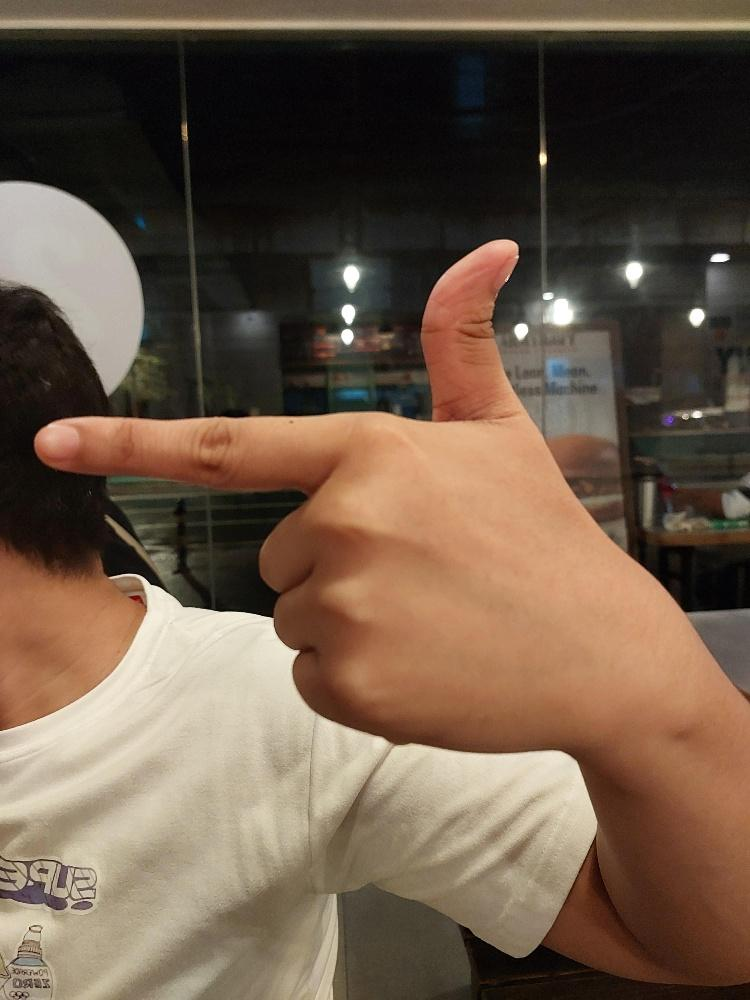g: (31, 236, 673, 755)
